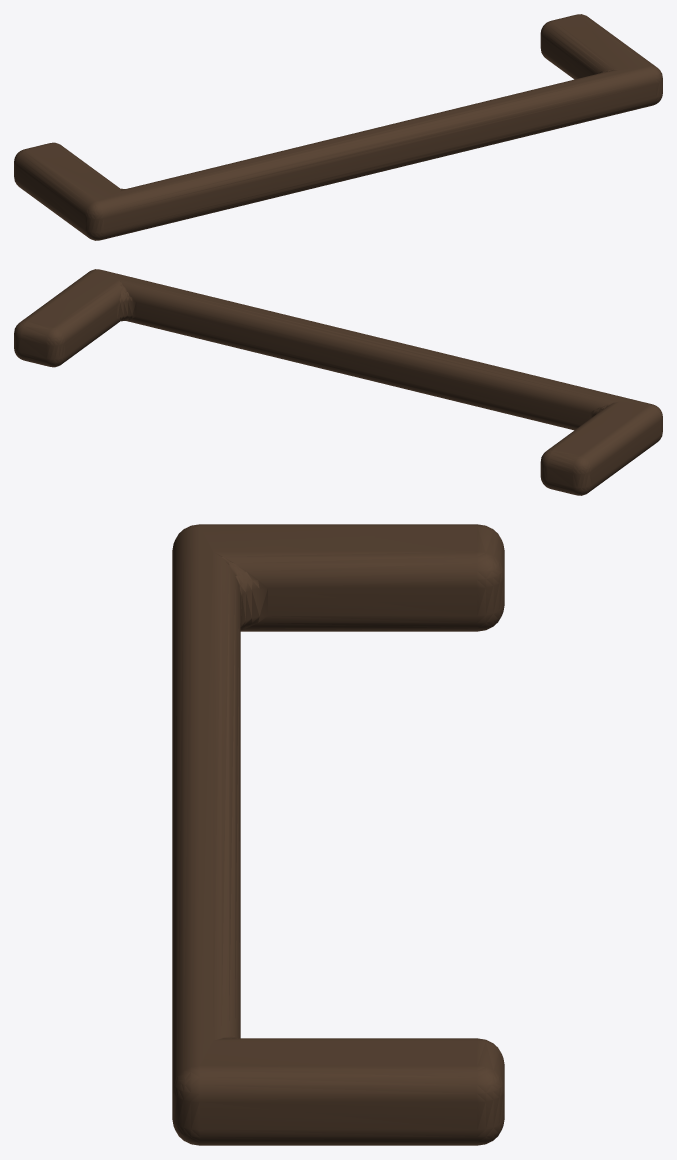
The model's file is eurofit-h-463-128orb-v3.glb.
3 renders of one model, top to bottom at view 1: azimuth 30°, elevation 25°; view 2: azimuth 150°, elevation 25°; view 3: azimuth 270°, elevation 25°, orthographic. The views are drawn at different scales.
Visible parts, largest first — view 1: Continuous U grip and legs; view 2: Continuous U grip and legs; view 3: Continuous U grip and legs.
Part boxes in pixels (x1,y1,x2,y2): Continuous U grip and legs: (14,14,662,240); Continuous U grip and legs: (14,269,662,495); Continuous U grip and legs: (172,524,504,1145).
Bounding box in the file's own units: 0.14 × 0.009 × 0.035.
